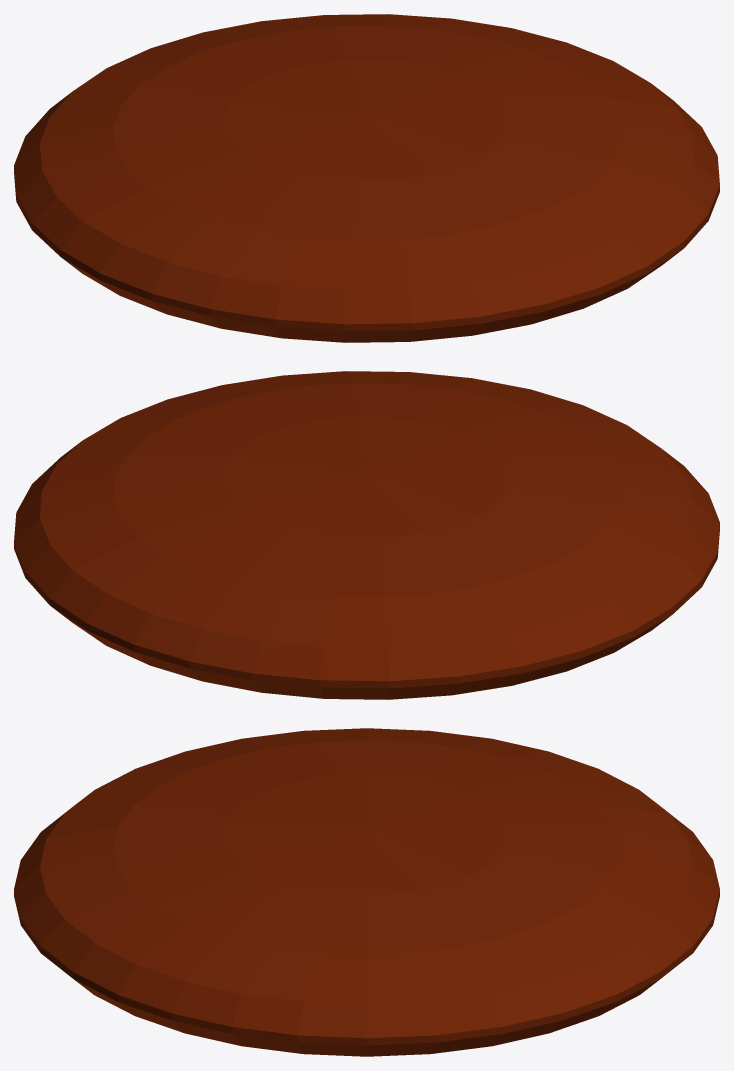
File: Meat.fbx
3 views of the same model, one above another, from view 1: azimuth 30°, elevation 25°; view 2: azimuth 150°, elevation 25°; view 3: azimuth 270°, elevation 25° (orthographic).
Visible parts, largest first — view 1: Cylinder; view 2: Cylinder; view 3: Cylinder.
Boxes of the visible parts, <box> form: Cylinder: <box>14,14,719,342</box>; Cylinder: <box>14,371,719,699</box>; Cylinder: <box>14,728,719,1056</box>.
Size of the model in its own units: 200 by 38.64 by 200.
